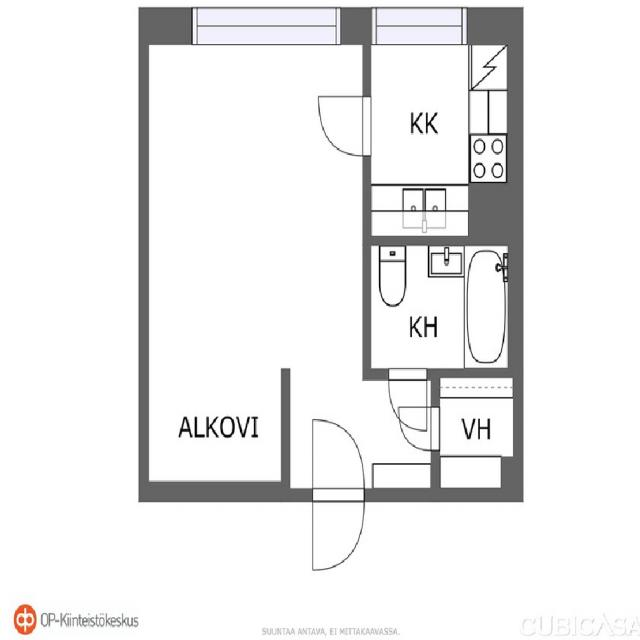door: (312, 419, 364, 501), (312, 488, 364, 570), (317, 96, 371, 156), (388, 369, 427, 428), (398, 406, 439, 451)
